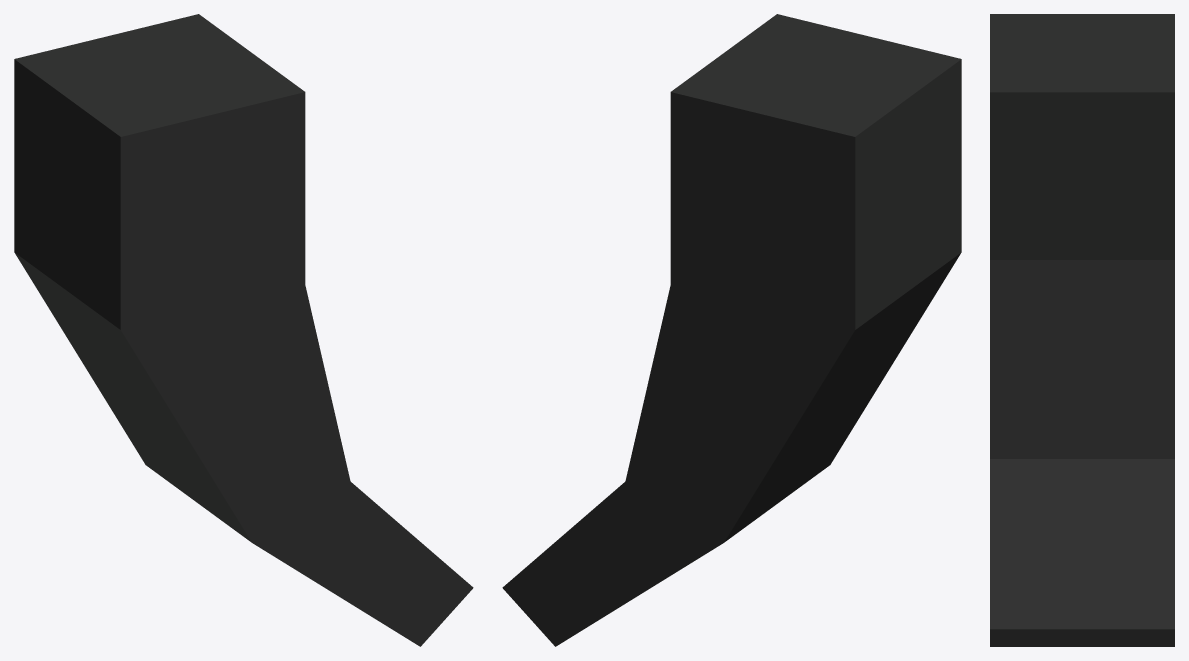
Rendered from SM_Shotguns3_02_3.glb.
3 renders of one model, left to right at view 1: azimuth 30°, elevation 25°; view 2: azimuth 150°, elevation 25°; view 3: azimuth 270°, elevation 25°, orthographic. The views are drawn at different scales.
Parts seen in each view (by area): view 1: SM_Shotguns3_02_3; view 2: SM_Shotguns3_02_3; view 3: SM_Shotguns3_02_3.
Boxes of the visible parts, box(x1,y1,x2,y2) form: SM_Shotguns3_02_3: box(14, 14, 473, 646); SM_Shotguns3_02_3: box(502, 14, 961, 646); SM_Shotguns3_02_3: box(990, 14, 1174, 646).
Size of the model in its own units: 0.0182 by 0.0287 by 0.00951.
1 material, 1 textured.
